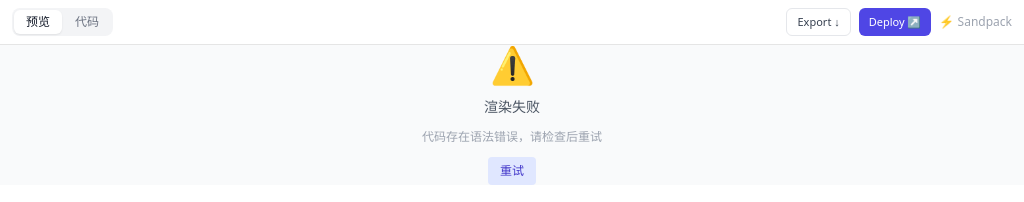
Test: PreviewPanel deploy button › shows building state after deploy click
The width and height of the screenshot is (1024, 202).
Click the button with test id "btn-deploy".
click(895, 22)  # box [859,8,932,36]
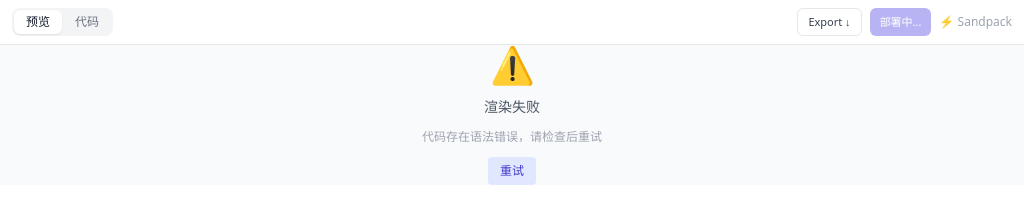
Check: the button with test id "btn-deploy" is disabled, box [870,8,931,36]
